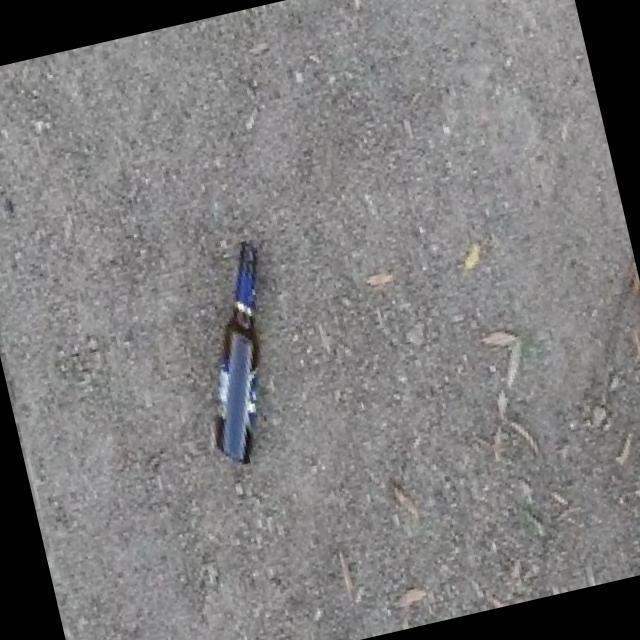BotolKaca: (211, 239, 263, 464)
